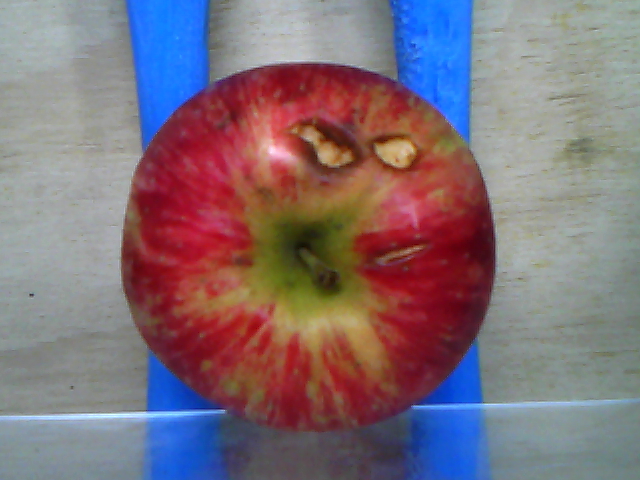puncture: (289, 118, 358, 170), (369, 135, 422, 173)
